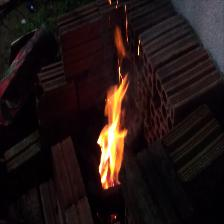fire: (90, 59, 149, 199), (106, 19, 143, 89)
